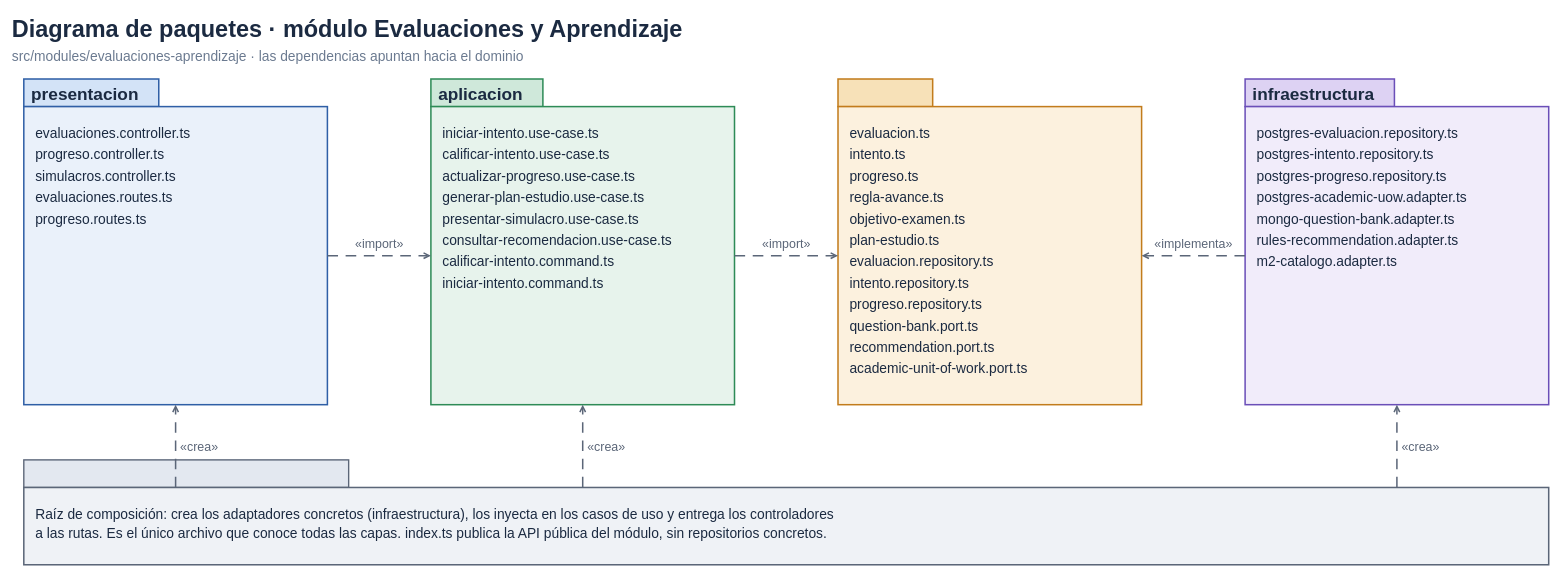
Image size: 1561x578. Some labels were removed from this diagram. Here are the shapes that lost their labels. From the top down, the box of each, then its label:
(837, 78, 933, 107): dominio
(23, 459, 349, 488): evaluaciones-aprendizaje.module.ts
